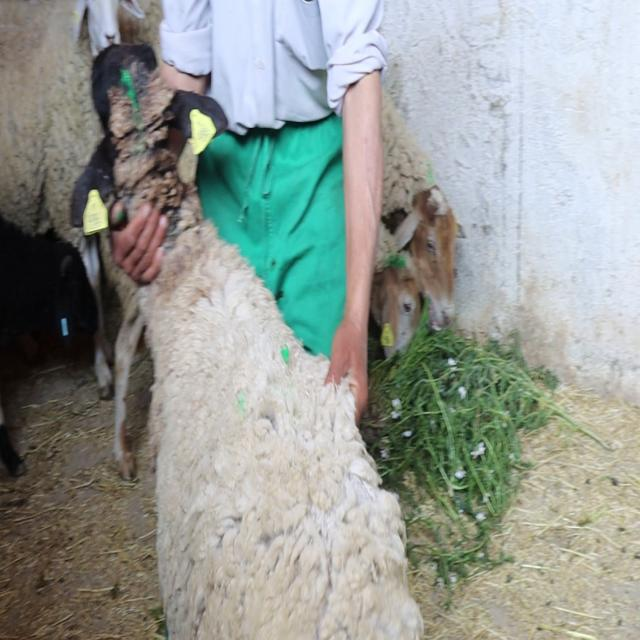Score_2: (71, 43, 423, 639)
